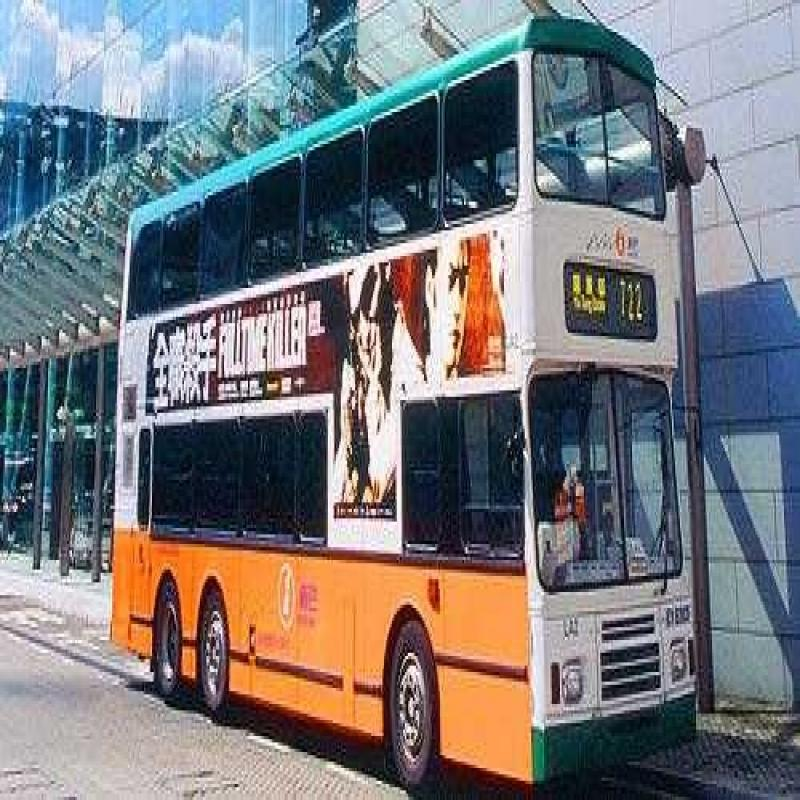bus: (100, 2, 726, 800)
